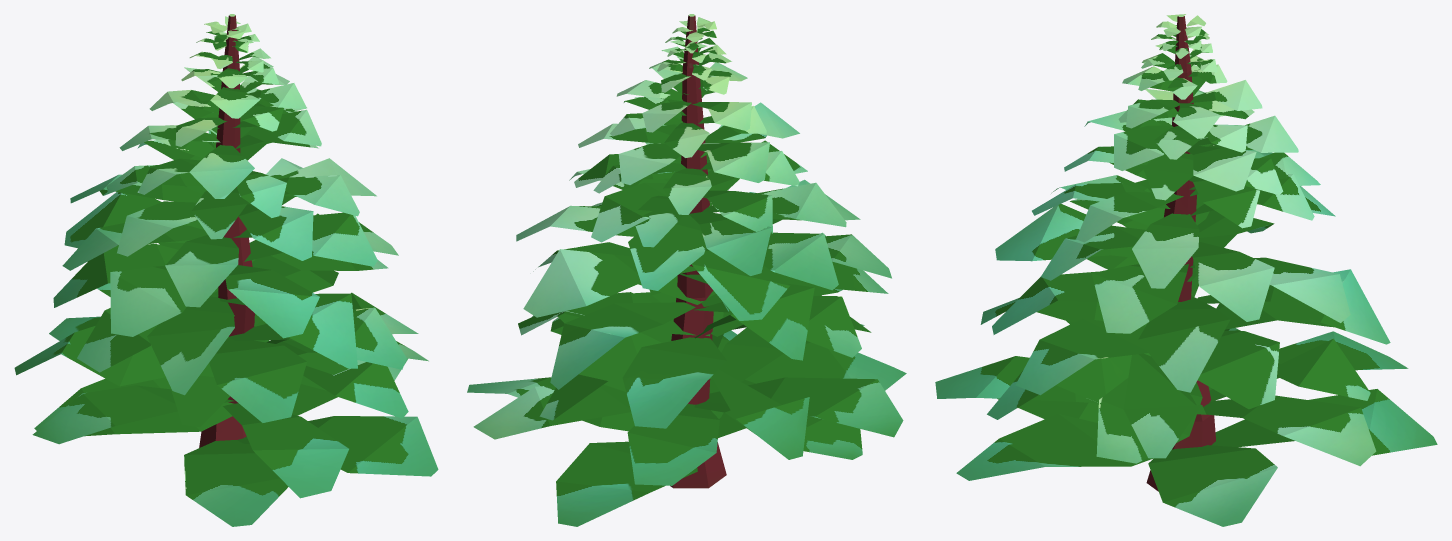
The model's file is Feathered Tree.fbx.
The picture shows the model from 3 angles, left to right: view 1: azimuth 30°, elevation 25°; view 2: azimuth 150°, elevation 25°; view 3: azimuth 270°, elevation 25°; orthographic projection. The views are drawn at different scales.
Visible parts, largest first — view 1: Feathered Tree; view 2: Feathered Tree; view 3: Feathered Tree.
Boxes of the visible parts, x1,y1,x2,y2 form: Feathered Tree: (14, 14, 438, 526); Feathered Tree: (467, 14, 906, 526); Feathered Tree: (935, 14, 1437, 526).
Size of the model in its own units: 1214 by 1319 by 1285.
